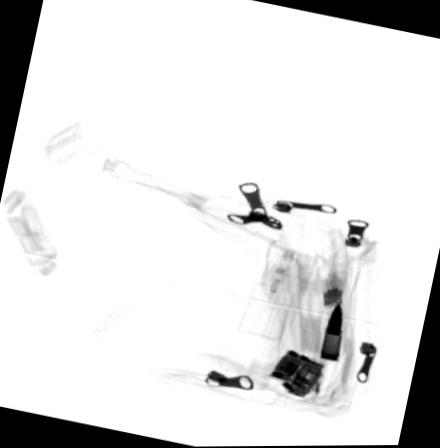Bullet: (317, 301, 345, 364)
